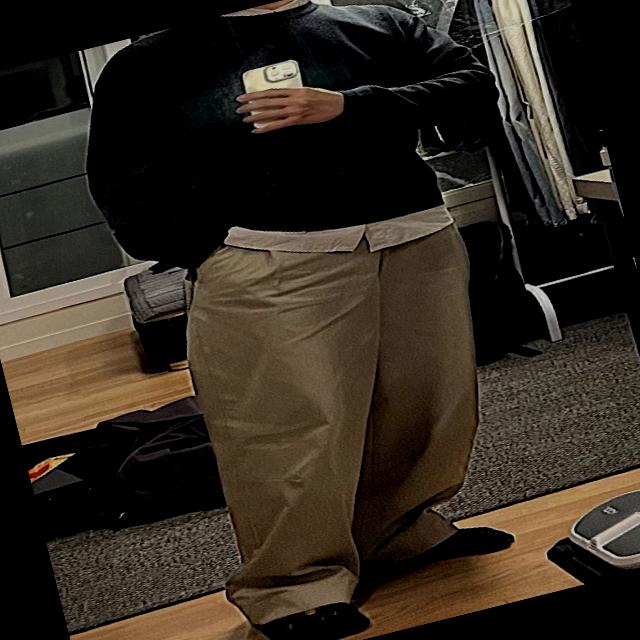cottonpants: (134, 187, 544, 637)
sweater: (59, 0, 517, 290)
